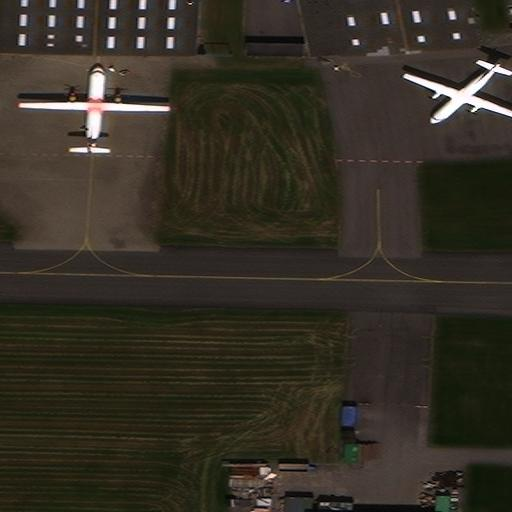Medium Civil Transport: (17, 62, 169, 154), (401, 63, 512, 123)
